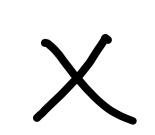mult: (35, 35, 136, 124)
